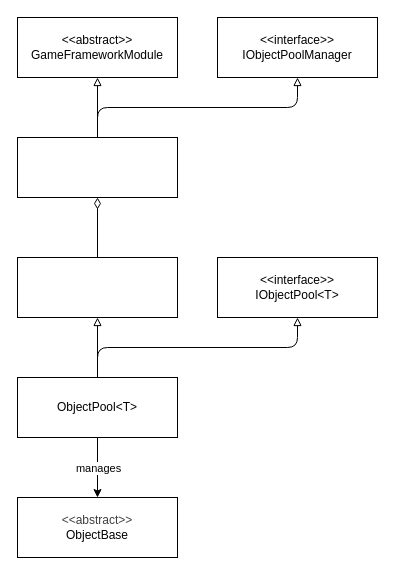
The diagram is 395 pixels wide and 575 high, and some of its shapes have lost their labels. Here are the shapes that lost their labels. From the top down, the box of each, then its label:
(16, 136, 178, 198): ObjectPoolManager
(16, 256, 178, 318): <<abstract>> ObjectPoolBase
